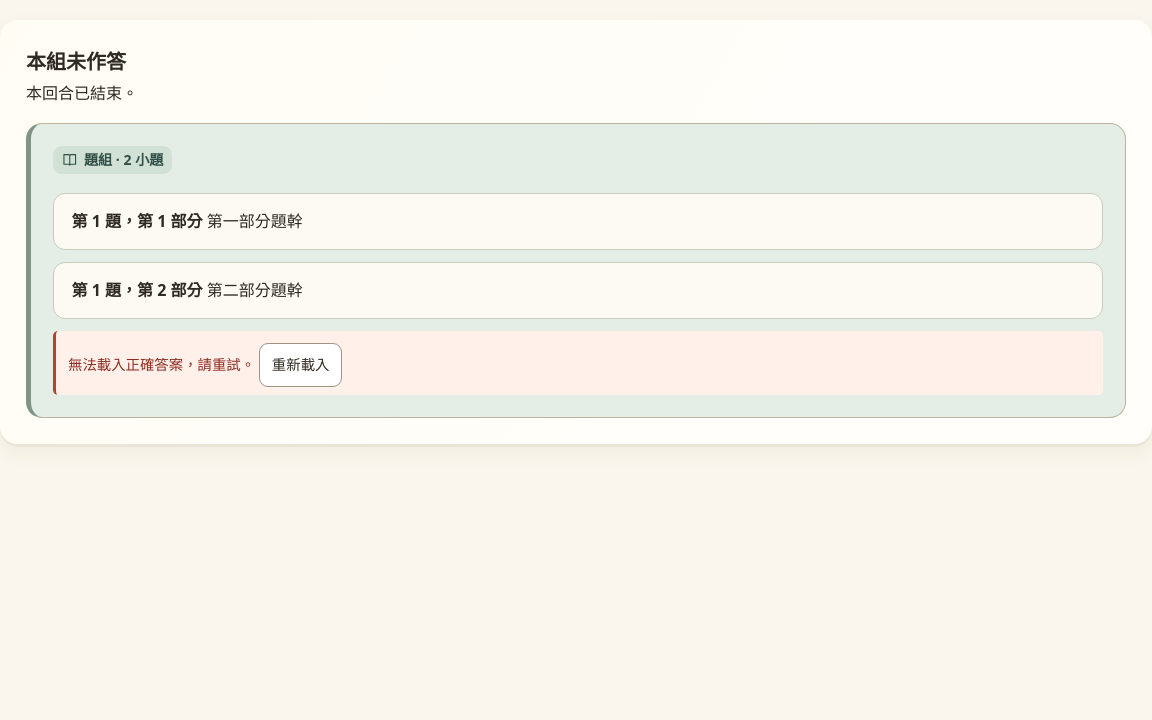
學生作答互動 › 本組未送出時，保留停收題目並於公布後逐題顯示正解
Later steps or results of the test are not shown.
Check: the heading "本組未作答" is shown, box top-left (26, 48), bottom-right (126, 75)
Check: the message "無法載入正確答案，請重試。 重新載入" is shown, box top-left (53, 331), bottom-right (1103, 395)
Click the button "重新載入". click: {"x": 301, "y": 365}
box: top-left (259, 343), bottom-right (342, 387)
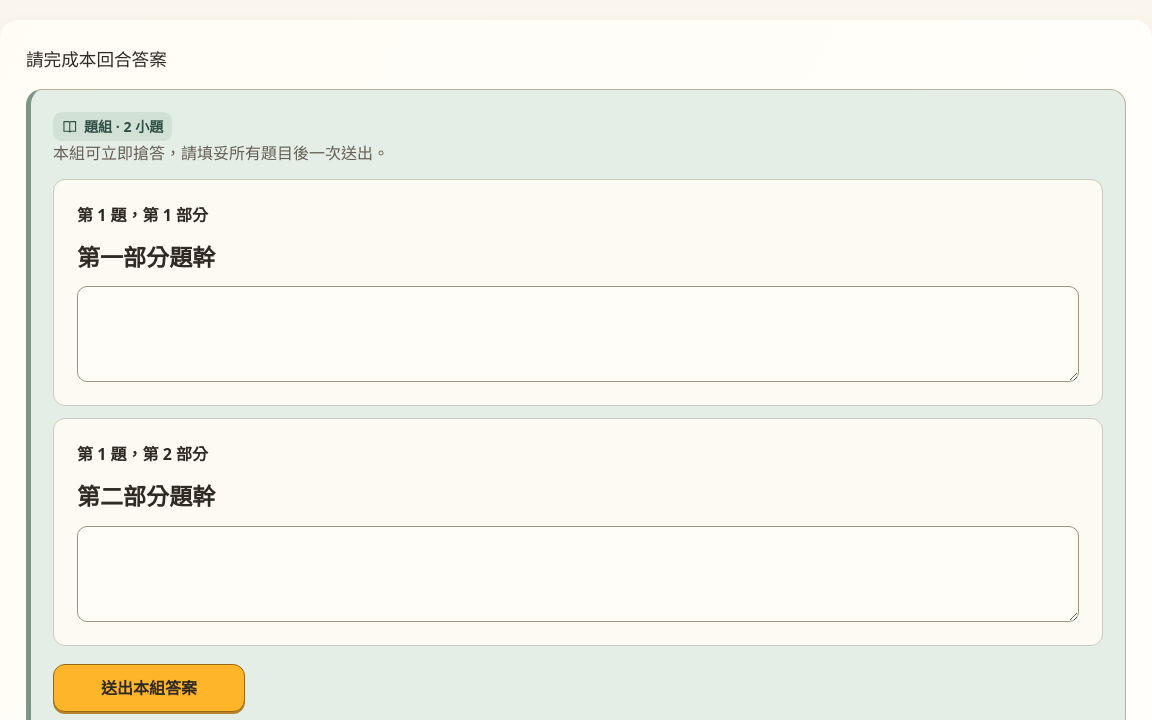
Check: the number of text boxes is 2, box top-left (77, 286), bottom-right (1079, 382); top-left (77, 526), bottom-right (1079, 622)
